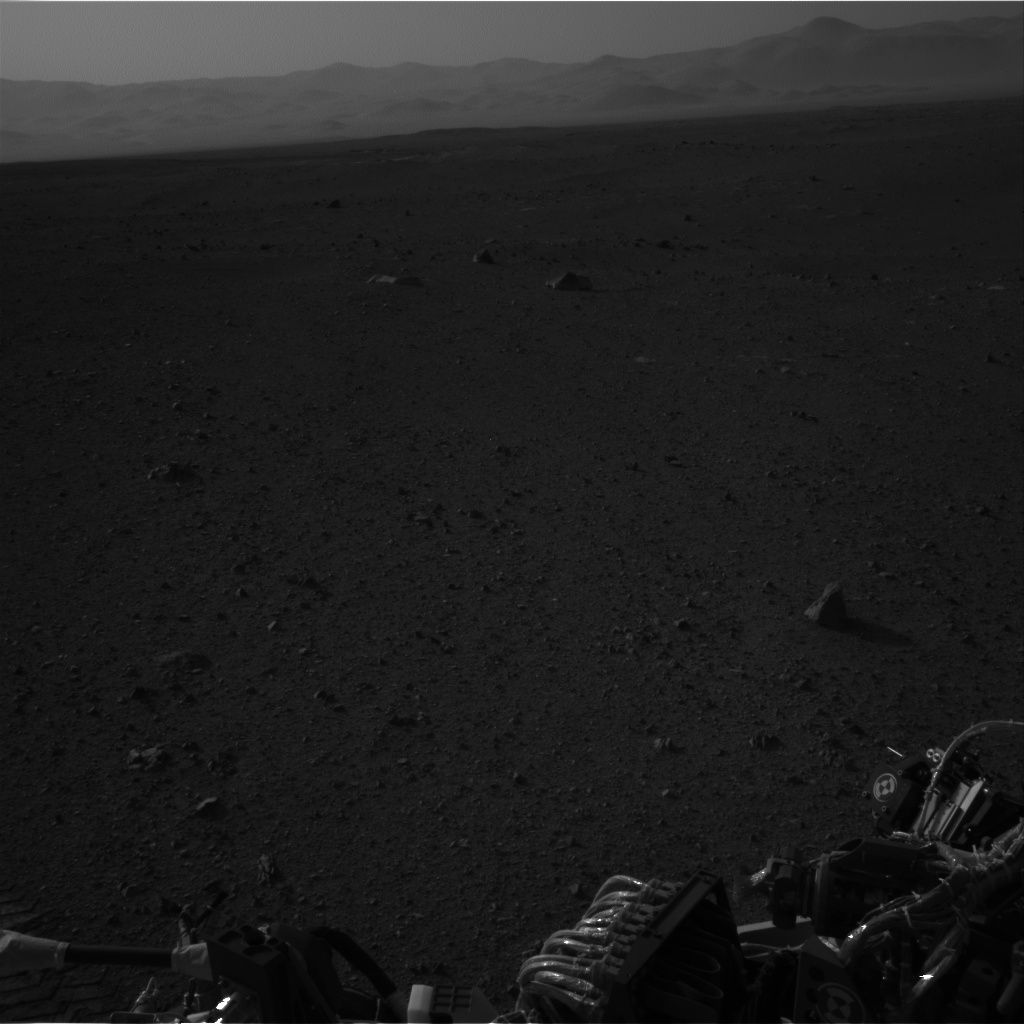soil: (27, 260, 1010, 886)
